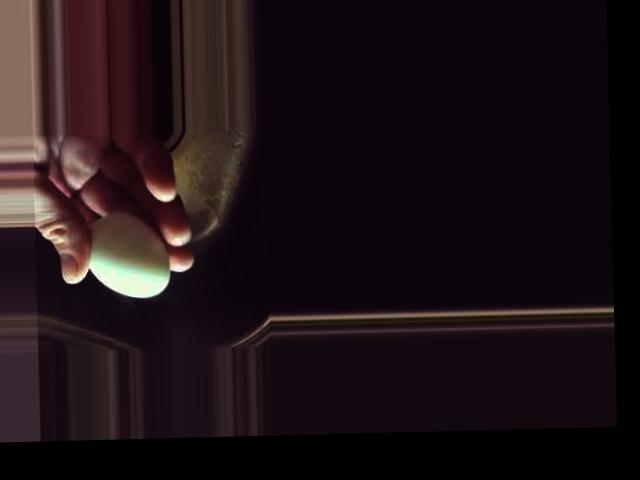egg: (86, 211, 171, 299)
